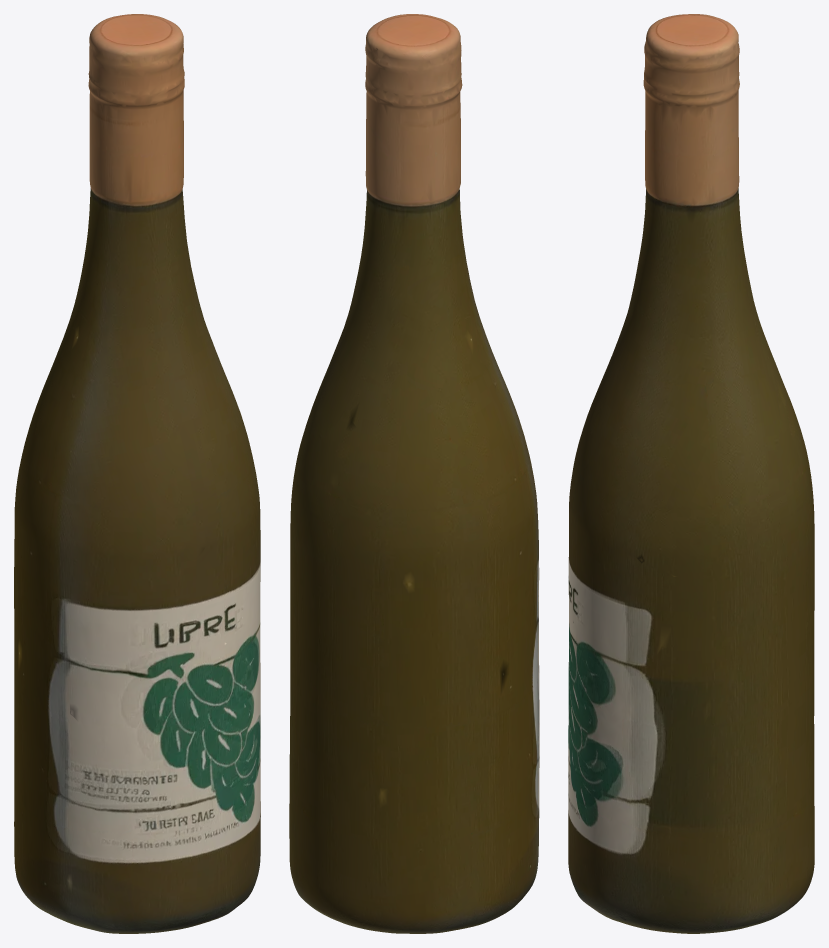
Rendered from bottle-sauvignon.glb.
3 renders of one model, left to right at view 1: azimuth 30°, elevation 25°; view 2: azimuth 150°, elevation 25°; view 3: azimuth 270°, elevation 25°, orthographic.
Bounding box in the file's own units: 0.5186 × 2 × 0.5191.
1 material, 1 textured.
